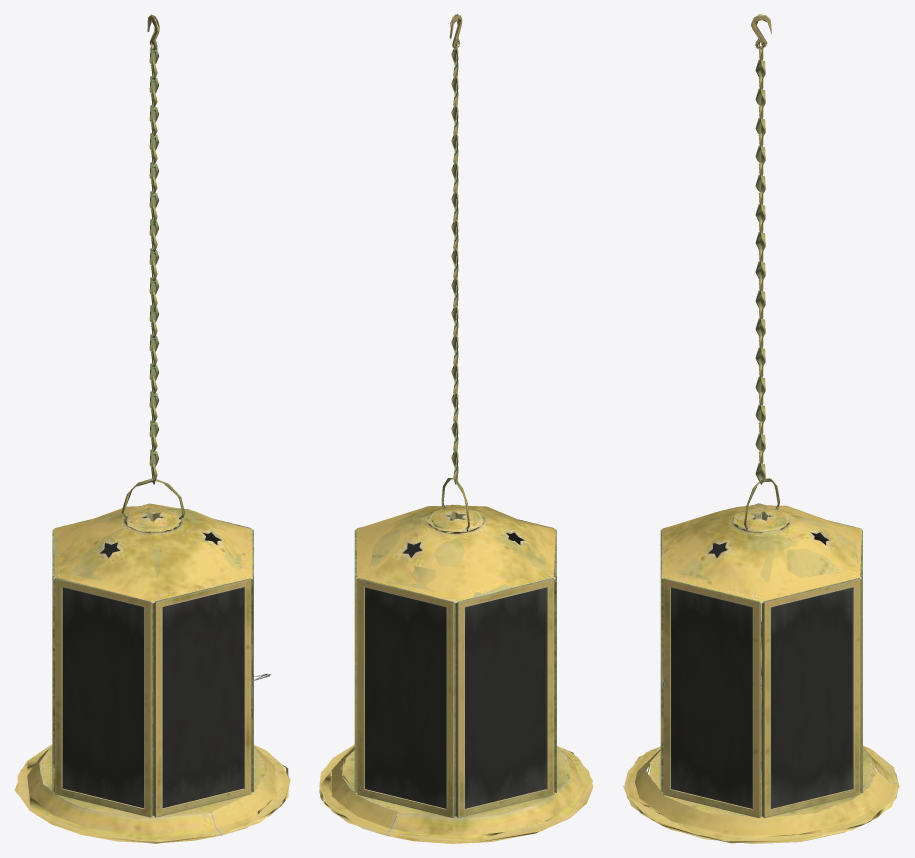
File: brass_diya_lantern.glb
3 views of the same model, side by side, from view 1: azimuth 30°, elevation 25°; view 2: azimuth 150°, elevation 25°; view 3: azimuth 270°, elevation 25° (orthographic).
Visible parts, largest first — view 1: brass_diya_lantern, brass_diya_lantern_chain; view 2: brass_diya_lantern, brass_diya_lantern_chain; view 3: brass_diya_lantern, brass_diya_lantern_chain.
Boxes of the visible parts, left/top/right/bottom form: brass_diya_lantern: left=14, top=503, right=290, bottom=843; brass_diya_lantern_chain: left=147, top=14, right=159, bottom=484; brass_diya_lantern: left=319, top=504, right=593, bottom=843; brass_diya_lantern_chain: left=449, top=14, right=462, bottom=484; brass_diya_lantern: left=622, top=503, right=900, bottom=843; brass_diya_lantern_chain: left=751, top=14, right=771, bottom=484.
Size of the model in its own units: 0.1236 by 0.3812 by 0.1245.
4 materials, 4 textured.
